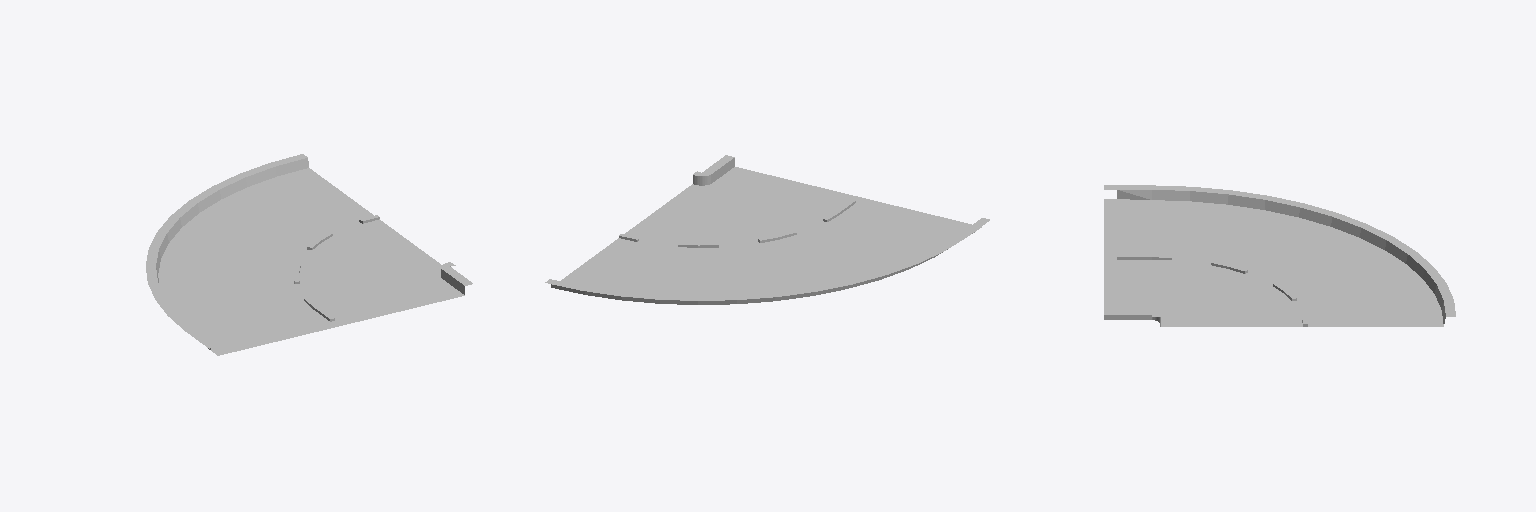
File: road6_reto.obj
The picture shows the model from 3 angles: view 1: azimuth 30°, elevation 25°; view 2: azimuth 150°, elevation 25°; view 3: azimuth 270°, elevation 25°; orthographic projection.
Visible parts, largest first — view 1: Plane.002; view 2: Plane.002; view 3: Plane.002.
Boxes of the visible parts, box(x1,y1,x2,y2) form: Plane.002: box(146, 154, 472, 355); Plane.002: box(545, 155, 989, 304); Plane.002: box(1104, 185, 1455, 326).
Size of the model in its own units: 6.01 by 0.2 by 6.79.